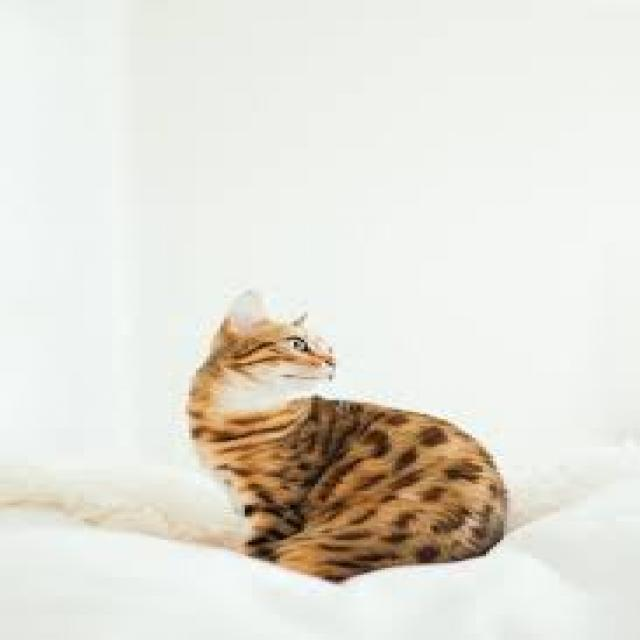Cat: (183, 286, 514, 586)
